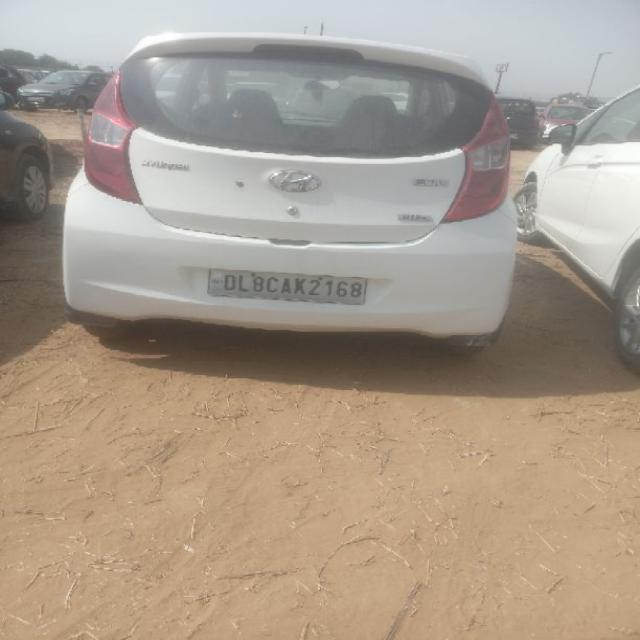license_plate: (205, 267, 367, 305)
